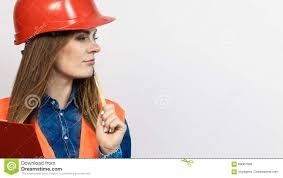helmet: (12, 1, 118, 42)
person with partial safety: (2, 1, 132, 159)
